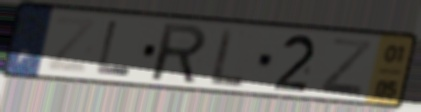2: (272, 33, 317, 94)
L: (209, 25, 247, 89), (94, 18, 134, 78)
R: (151, 21, 209, 86)
Z: (317, 36, 376, 99), (43, 13, 101, 76)
